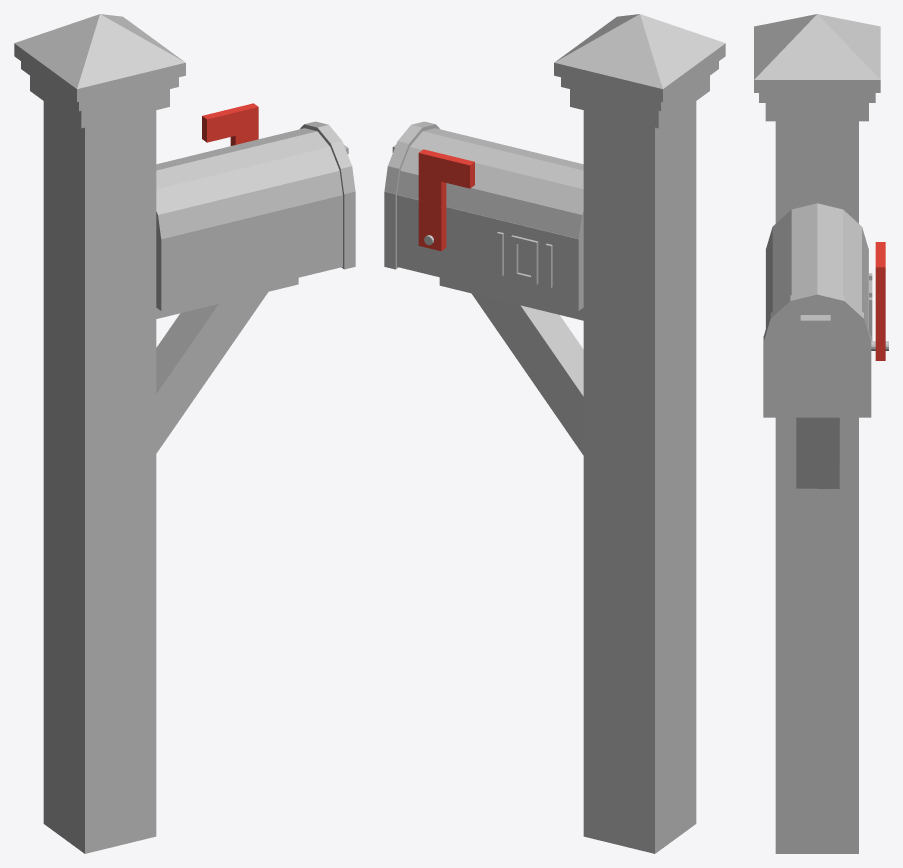
3 renders of one model, left to right at view 1: azimuth 30°, elevation 25°; view 2: azimuth 150°, elevation 25°; view 3: azimuth 270°, elevation 25°, orthographic.
Size of the model in its own units: 1.03 by 2.72 by 0.405.
